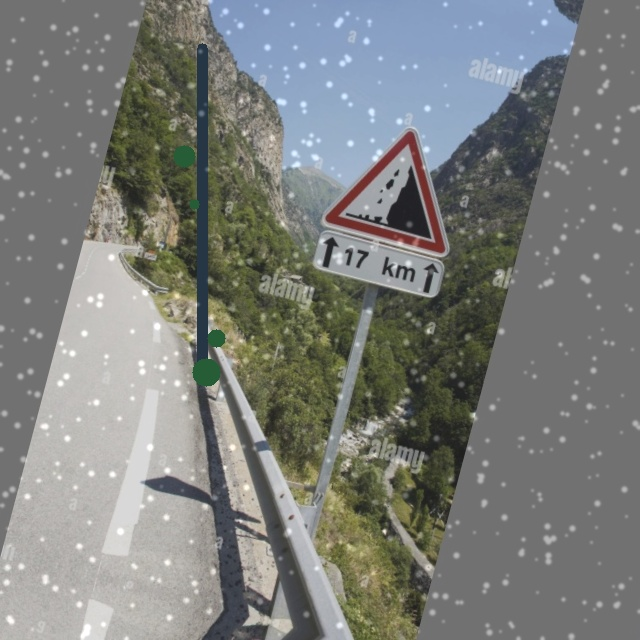Falling_Rocks: (323, 113, 472, 256)
